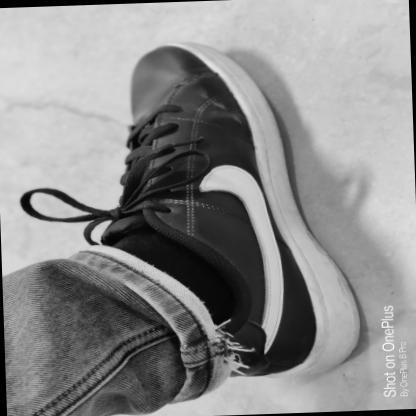ankle: (217, 266, 229, 280)
heel: (327, 348, 348, 361)
left_foot: (119, 37, 365, 385)
pinky: (133, 94, 145, 102)
toe: (175, 48, 187, 56)
